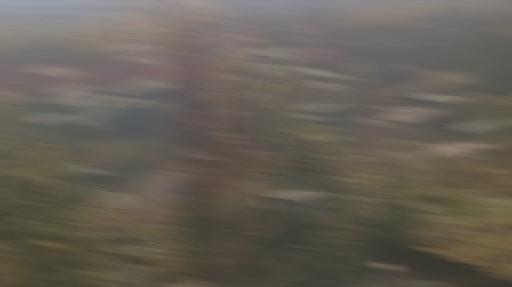Fish: (105, 171, 180, 214), (425, 142, 492, 156), (115, 77, 172, 93), (67, 167, 114, 186), (385, 108, 442, 121), (455, 120, 508, 132), (55, 93, 102, 105), (297, 100, 348, 111), (76, 109, 113, 123), (417, 93, 472, 102), (107, 43, 160, 52), (357, 117, 400, 128), (273, 190, 324, 199), (49, 85, 94, 95), (100, 97, 145, 107), (30, 65, 75, 74), (257, 46, 296, 56), (301, 69, 348, 77), (29, 115, 76, 123), (256, 63, 289, 74), (308, 80, 343, 90), (118, 54, 161, 62), (52, 69, 85, 79), (139, 80, 173, 89), (377, 105, 420, 112), (76, 103, 109, 112), (149, 59, 172, 70), (292, 114, 329, 120), (4, 94, 33, 101), (86, 121, 105, 131), (150, 102, 173, 110), (325, 134, 350, 139)
